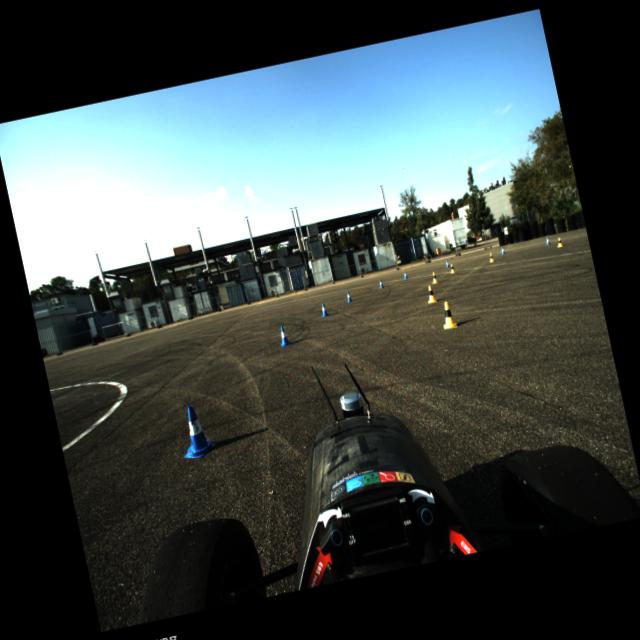blue_cone: (174, 401, 218, 460), (276, 324, 290, 346), (320, 302, 328, 317), (344, 290, 352, 302), (402, 270, 408, 280), (544, 236, 550, 245), (444, 259, 450, 268), (378, 278, 383, 288), (500, 247, 504, 254)
yellow_cone: (438, 300, 457, 329), (424, 284, 437, 303), (429, 270, 438, 284), (556, 236, 562, 247), (448, 262, 454, 273), (488, 252, 493, 262)
